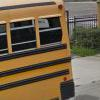Bus: (3, 1, 78, 100)
